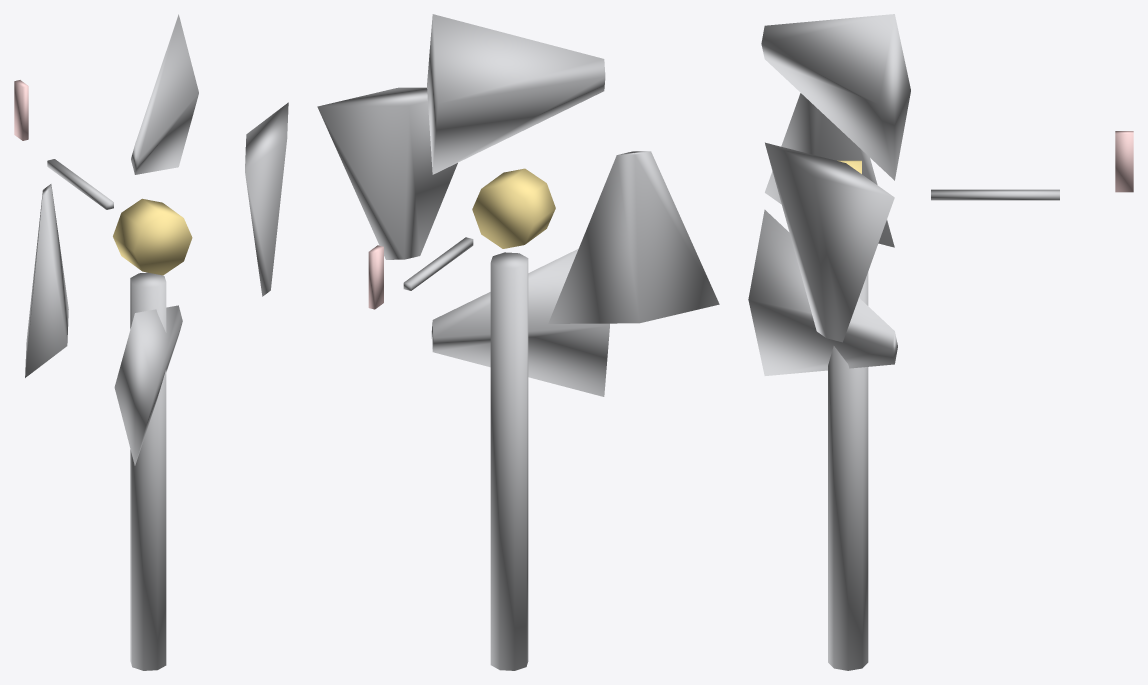
The model's file is windmill.glb.
The picture shows the model from 3 angles, left to right: view 1: azimuth 30°, elevation 25°; view 2: azimuth 150°, elevation 25°; view 3: azimuth 270°, elevation 25°; orthographic projection. The views are drawn at different scales.
Parts seen in each view (by area): view 1: Pole, Blade0, Blade2, Blade3, Blade1, Nacelle, TailRod, TailFin; view 2: Blade3, Blade0, Pole, Blade1, Blade2, Nacelle, TailRod, TailFin; view 3: Blade0, Blade1, Pole, Blade2, Blade3, TailRod, TailFin.
Part boxes in pixels (x1,y1,x2,y2): Pole: (130,272,166,670); Blade0: (131,14,198,174); Blade2: (114,305,182,465); Blade3: (25,184,68,377); Blade1: (245,102,288,296); Nacelle: (113,198,192,275); TailRod: (47,159,113,209); TailFin: (14,80,28,140); Blade3: (548,151,719,323); Blade0: (427,14,605,174); Pole: (490,252,528,670); Blade1: (317,87,457,259); Blade2: (431,249,609,396); Nacelle: (472,168,555,248); TailRod: (403,237,473,290); TailFin: (368,245,383,309); Blade0: (761,14,910,180); Blade1: (765,142,894,342); Pole: (828,272,868,670); Blade2: (748,209,897,375); Blade3: (765,93,894,247); TailRod: (931,189,1059,200); TailFin: (1115,131,1133,192).
Size of the model in its own units: 0.4414 by 0.81 by 0.4184.
